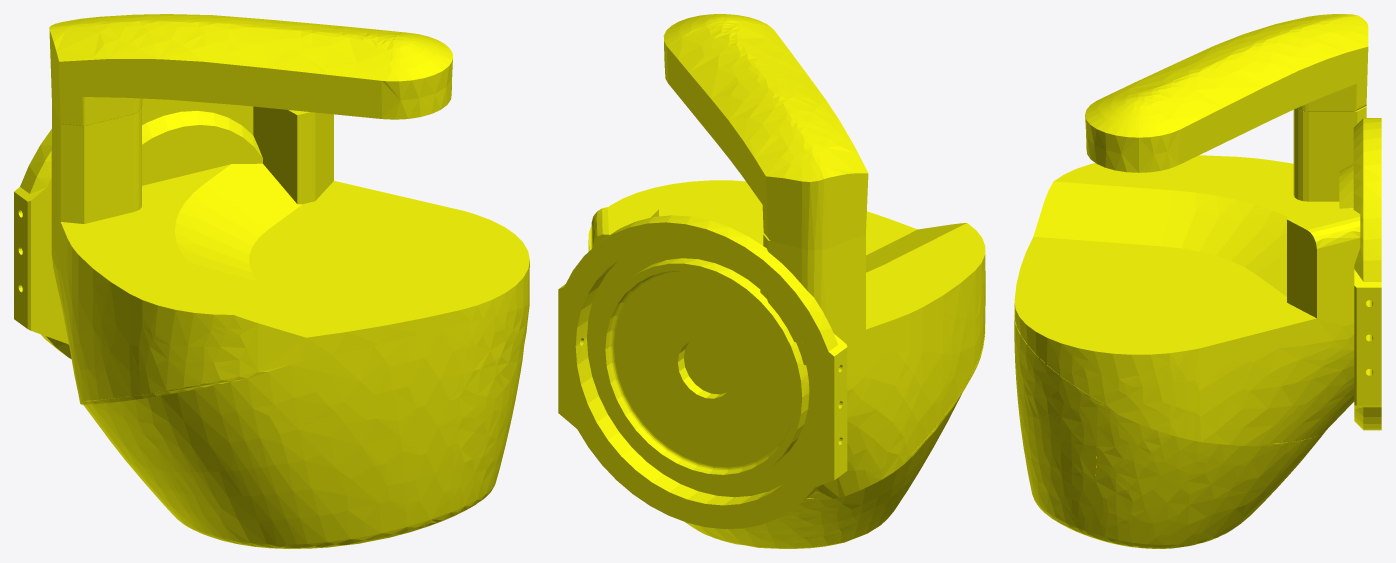
The picture shows the model from 3 angles, left to right: view 1: azimuth 30°, elevation 25°; view 2: azimuth 150°, elevation 25°; view 3: azimuth 270°, elevation 25°; orthographic projection. The views are drawn at different scales.
Parts seen in each view (by area): view 1: node; view 2: node; view 3: node.
Part boxes in pixels (x1,y1,x2,y2): node: (14,14,529,548); node: (558,14,985,548); node: (1014,14,1381,548).
Size of the model in its own units: 537 by 643 by 484.
